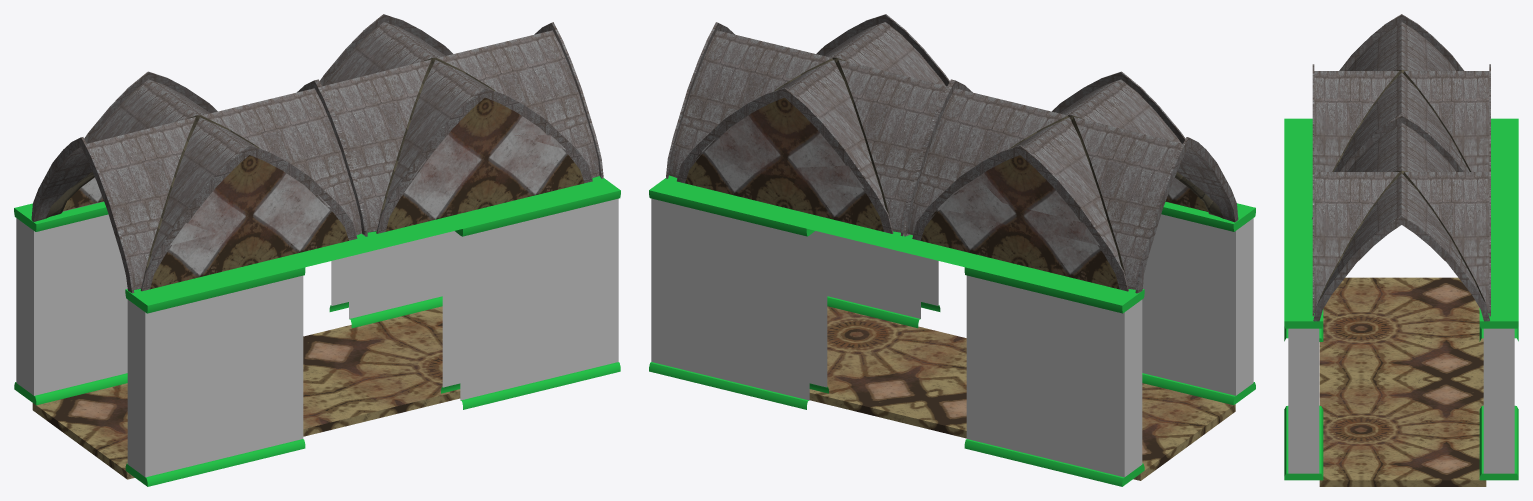
Rendered from Basic Hallway 03C.fbx.
The picture shows the model from 3 angles, left to right: view 1: azimuth 30°, elevation 25°; view 2: azimuth 150°, elevation 25°; view 3: azimuth 270°, elevation 25°; orthographic projection. The views are drawn at different scales.
Visible parts, largest first — view 1: Plane_001; view 2: Plane_001; view 3: Plane_001.
Boxes of the visible parts, <box> form: Plane_001: <box>14,14,620,486</box>; Plane_001: <box>649,14,1255,486</box>; Plane_001: <box>1284,14,1518,486</box>.
Size of the model in its own units: 1262 by 783 by 615.
